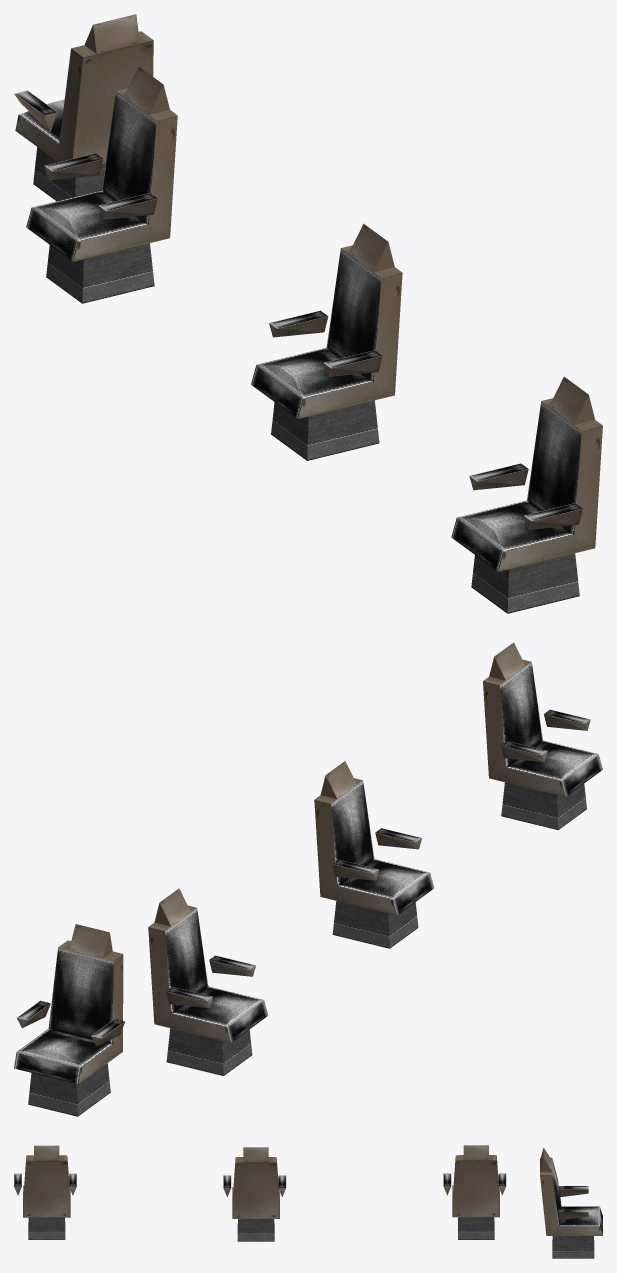
File: shpbridge_sfw08.obj
3 renders of one model, top to bottom at view 1: azimuth 30°, elevation 25°; view 2: azimuth 150°, elevation 25°; view 3: azimuth 270°, elevation 25°, orthographic. The views are drawn at different scales.
Parts seen in each view (by area): view 1: shpbridge_sfw08; view 2: shpbridge_sfw08; view 3: shpbridge_sfw08.
Boxes of the visible parts, bbox=[...] form: shpbridge_sfw08: bbox=[14, 14, 602, 613]; shpbridge_sfw08: bbox=[14, 642, 602, 1116]; shpbridge_sfw08: bbox=[14, 1145, 602, 1258].
Size of the model in its own units: 1.34 by 1.35 by 7.36.
3 materials, 3 textured.
